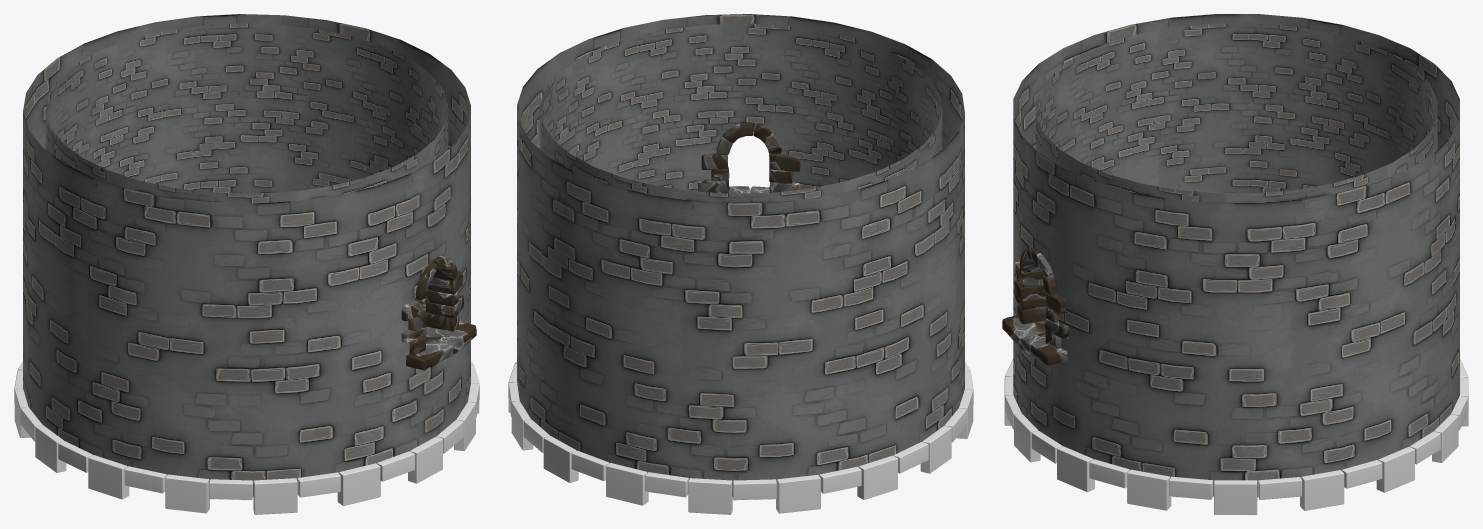
Rendered from SM_Tower_Mid_Windows.fbx.
The picture shows the model from 3 angles, left to right: view 1: azimuth 30°, elevation 25°; view 2: azimuth 150°, elevation 25°; view 3: azimuth 270°, elevation 25°; orthographic projection.
Parts seen in each view (by area): view 1: SM_Tower_Mid_Windows_LOD0; view 2: SM_Tower_Mid_Windows_LOD0; view 3: SM_Tower_Mid_Windows_LOD0.
Boxes of the visible parts, box(x1,y1,x2,y2) form: SM_Tower_Mid_Windows_LOD0: box(14, 14, 479, 514); SM_Tower_Mid_Windows_LOD0: box(508, 14, 973, 514); SM_Tower_Mid_Windows_LOD0: box(1002, 14, 1468, 514).
Size of what is drawn, in the model's own units: 14.18 by 10.41 by 14.25.
